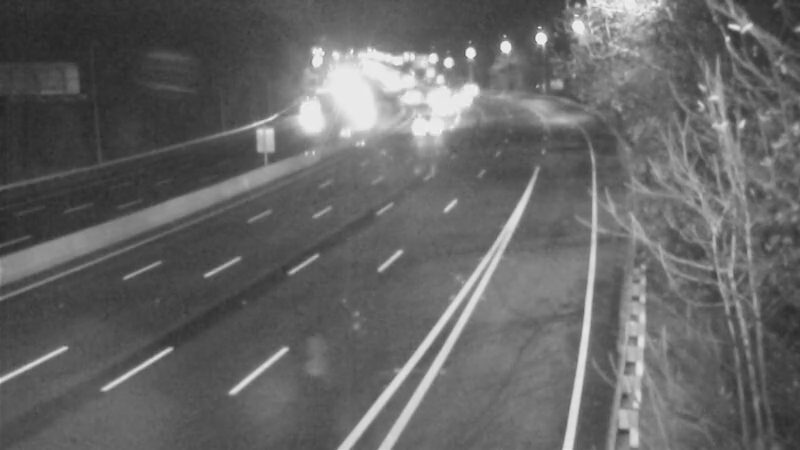vehicle: (444, 63, 494, 113), (435, 77, 485, 127), (405, 75, 455, 125), (384, 72, 434, 122), (416, 80, 466, 130), (408, 98, 458, 148), (284, 92, 334, 142)
